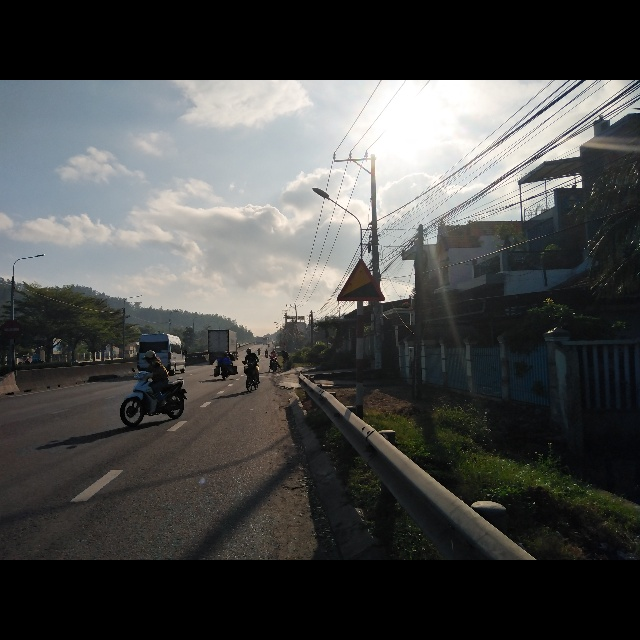Dốc lên nguy hiểm: (337, 257, 386, 302)
